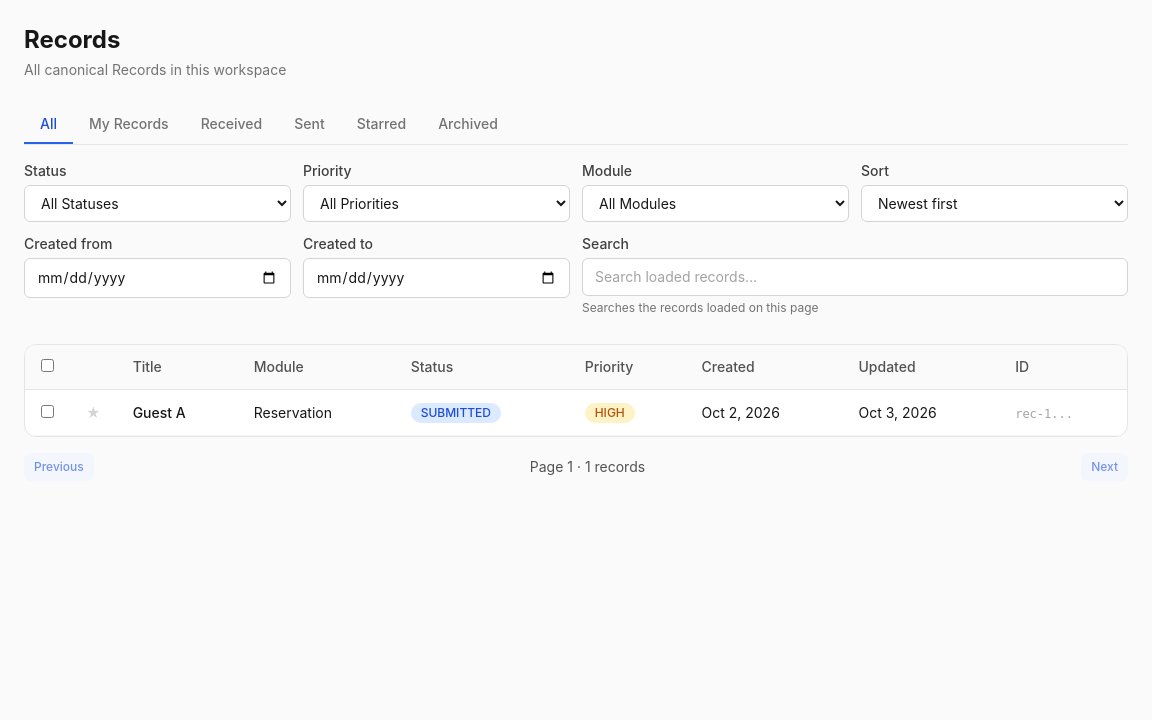
it: global Record List › shows a no-match state when search finds nothing on the loaded page
The width and height of the screenshot is (1152, 720).
Expected: the link "Guest A" is shown, [133,404,186,420]
Type "nomatch" into the search field named "Search records" at [855, 277], box [582,258,1128,296]
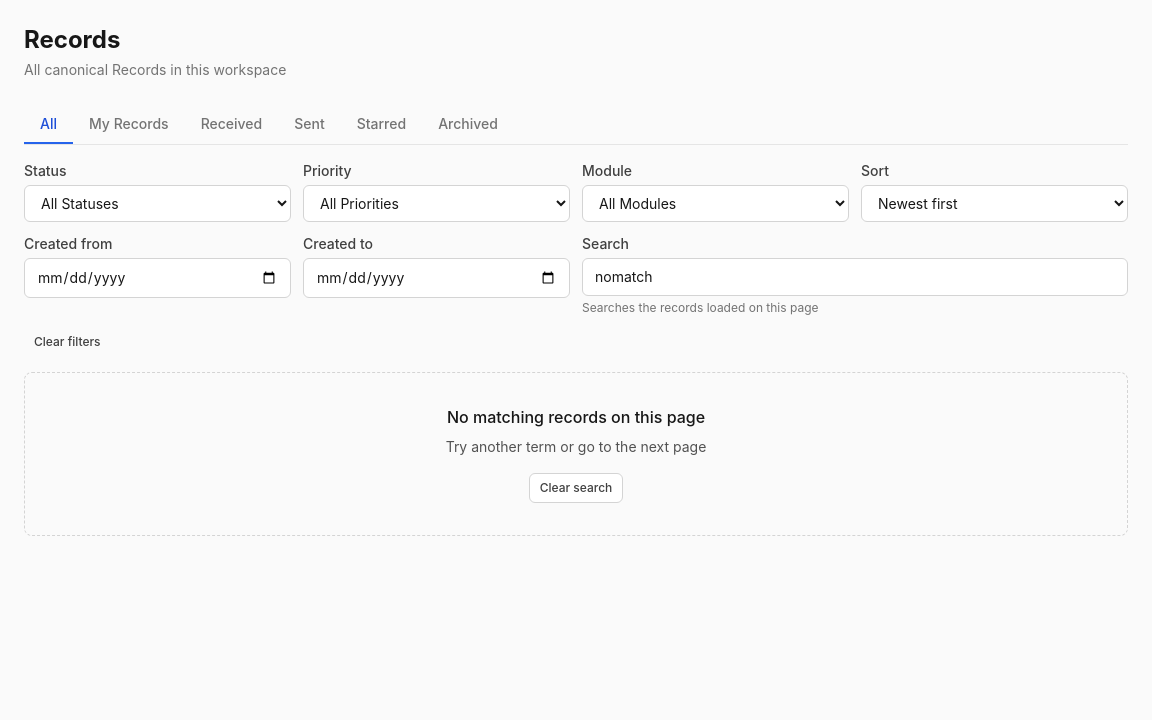
Expected: the heading "No matching records on this page" is shown, [447,405,705,429]
Expected: the button "Clear search" is shown, [529,473,623,503]
